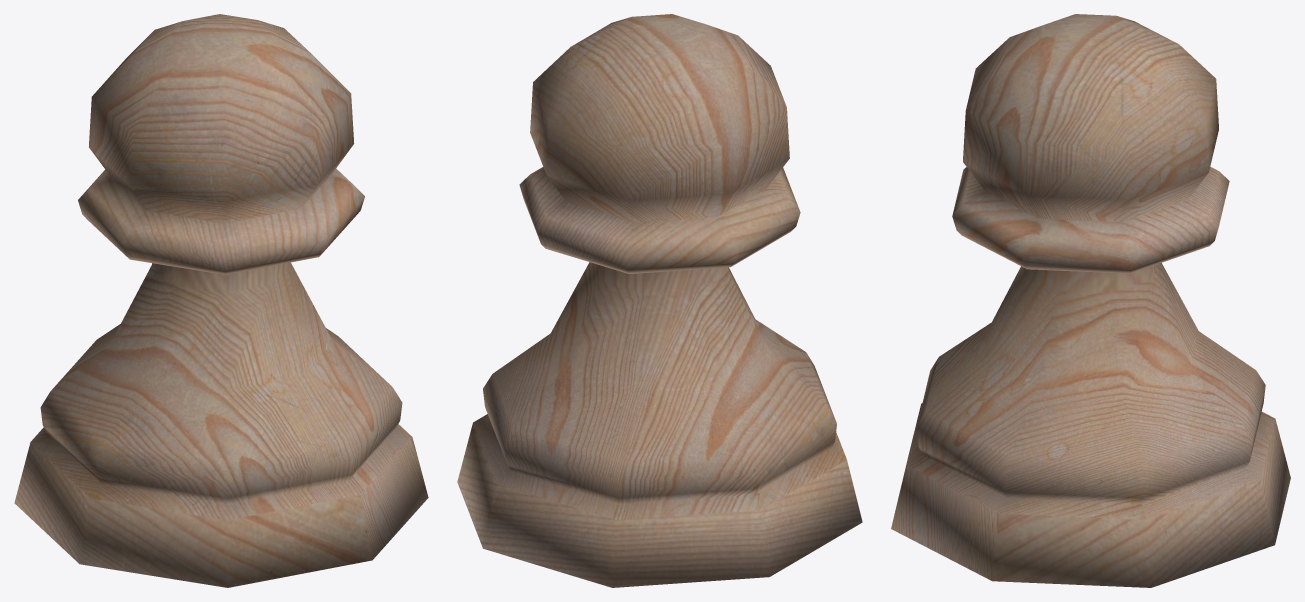
The model's file is Pawn_white.glb.
3 renders of one model, left to right at view 1: azimuth 30°, elevation 25°; view 2: azimuth 150°, elevation 25°; view 3: azimuth 270°, elevation 25°, orthographic.
Visible parts, largest first — view 1: Object_40; view 2: Object_40; view 3: Object_40.
Boxes of the visible parts, x1,y1,x2,y2 form: Object_40: (14, 14, 428, 587); Object_40: (457, 14, 862, 587); Object_40: (891, 14, 1290, 587).
Size of the model in its own units: 0.0268 by 0.0349 by 0.0268.
Materials: 1 (1 with a texture image).
